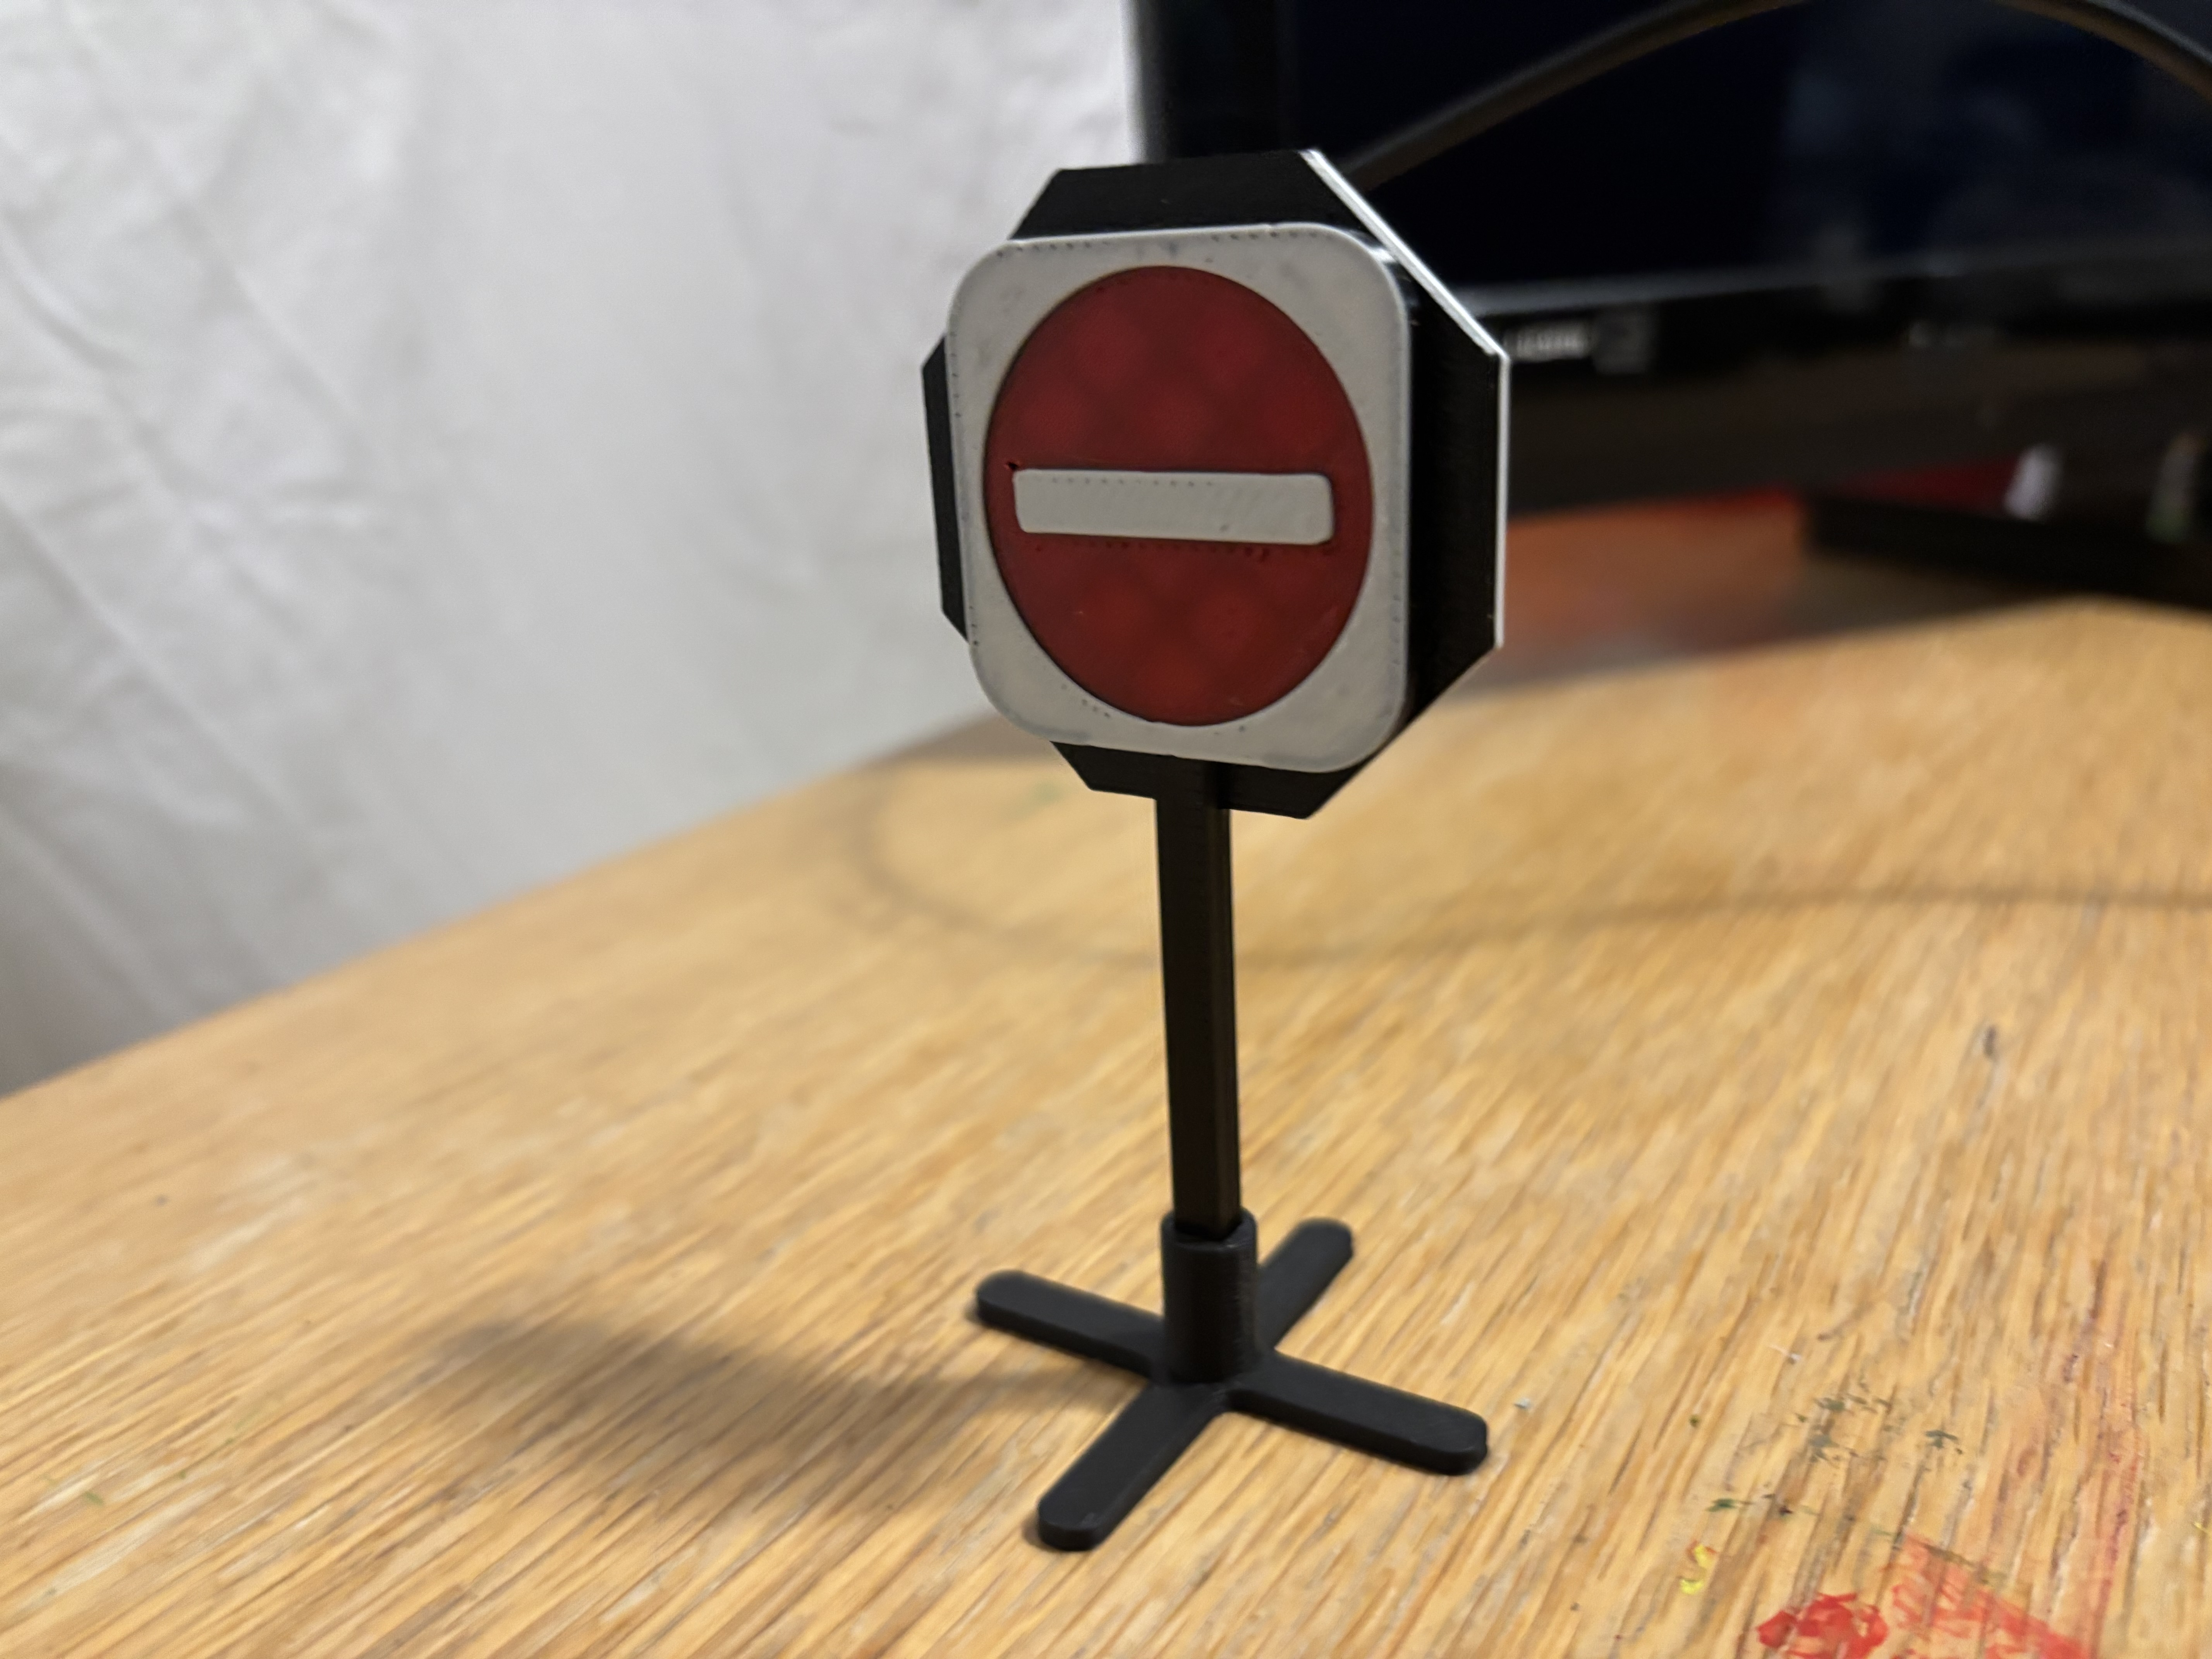sign_noentry: (930, 221, 1418, 802)
